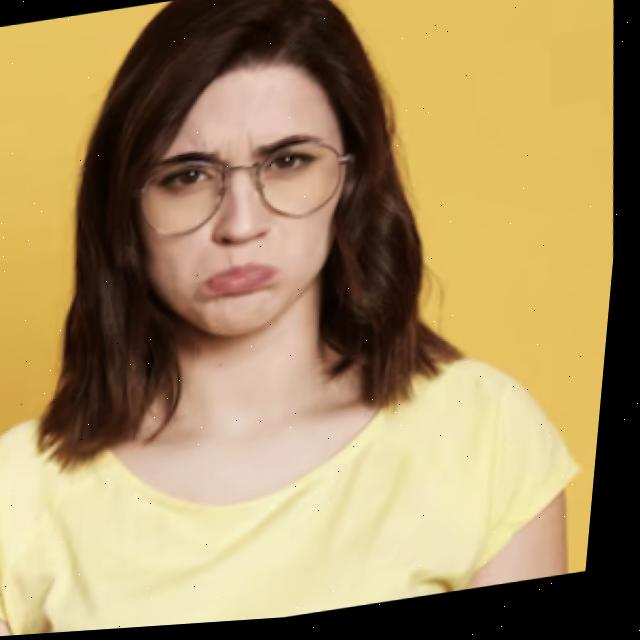sad: (71, 43, 400, 383)
